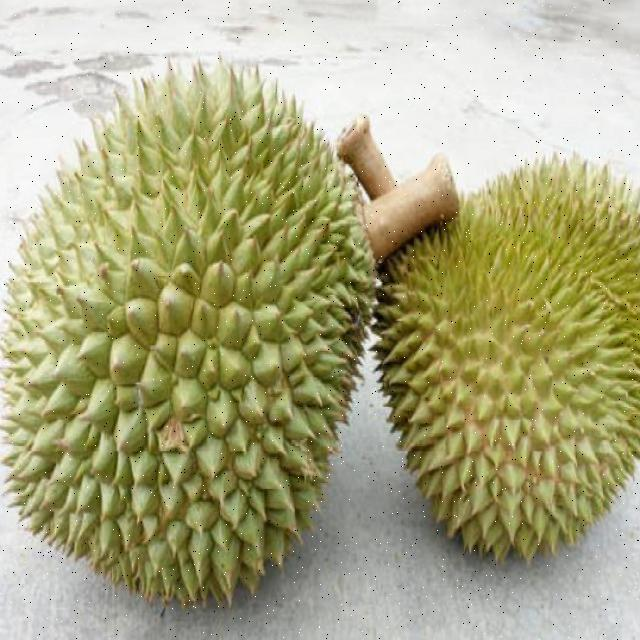UNRIPE: (0, 62, 368, 610), (374, 150, 640, 564)
